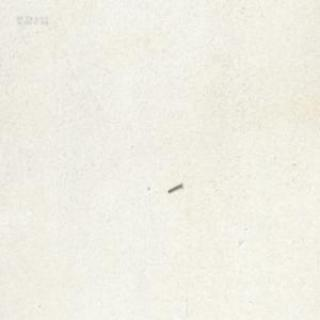Bolttrack_idkeyframe: (166, 180, 181, 192)
